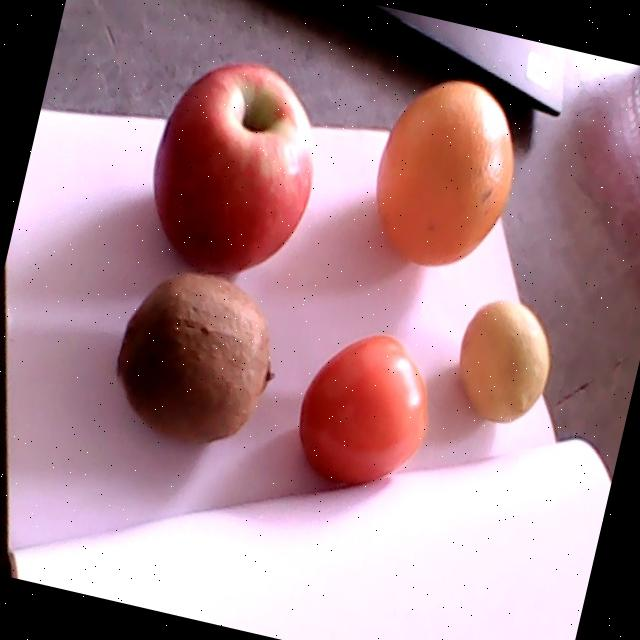apple: (153, 65, 314, 276)
kiwi: (115, 275, 274, 443)
lemon: (458, 300, 549, 422)
orange: (375, 82, 513, 265)
tomato: (299, 334, 429, 484)
